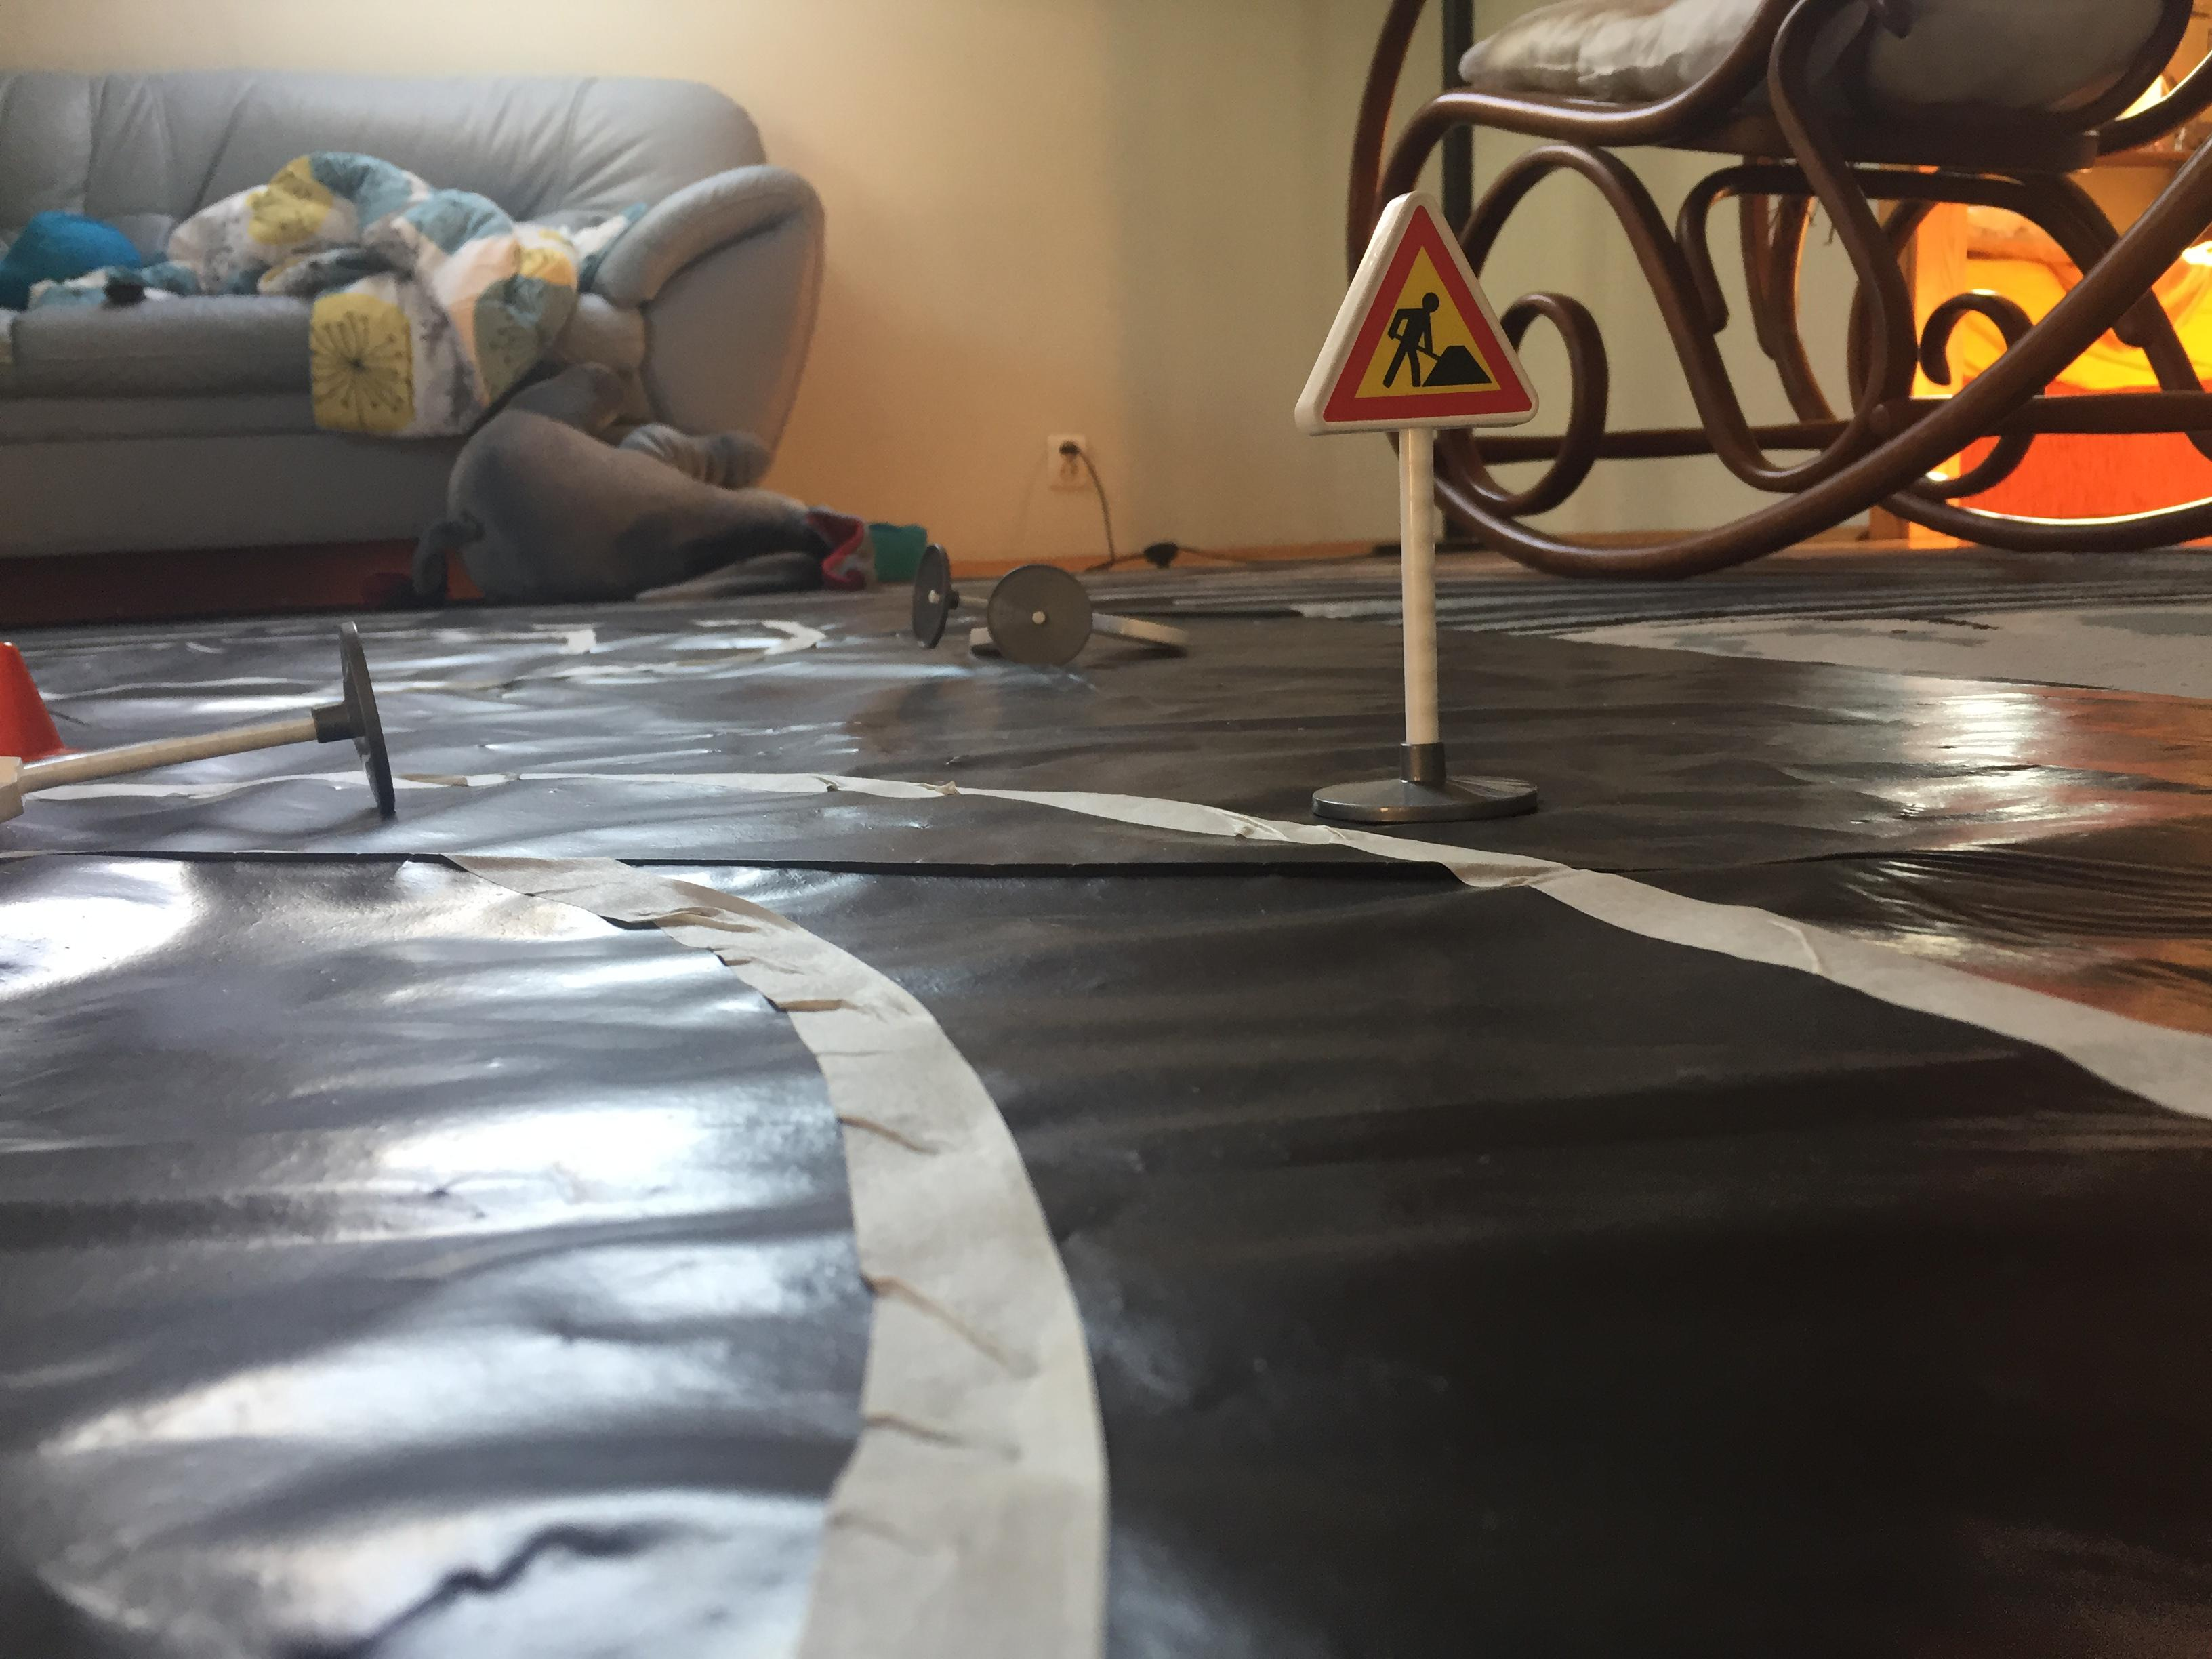work: (1284, 178, 1555, 453)
